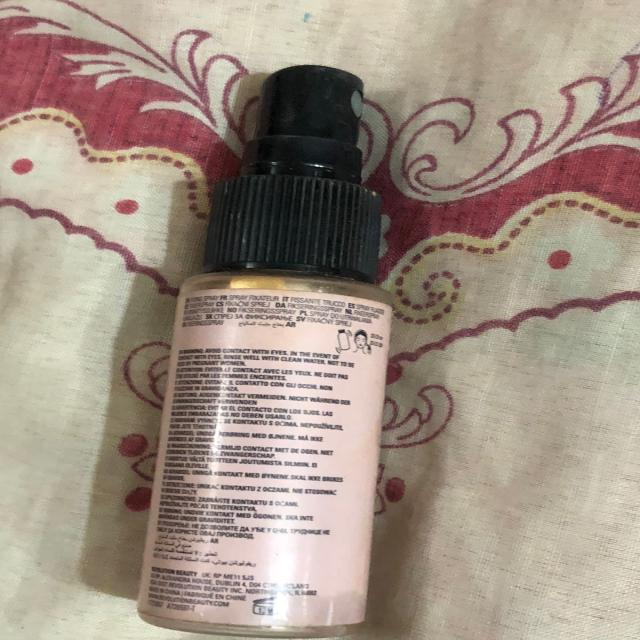foundation: (112, 32, 424, 640)
